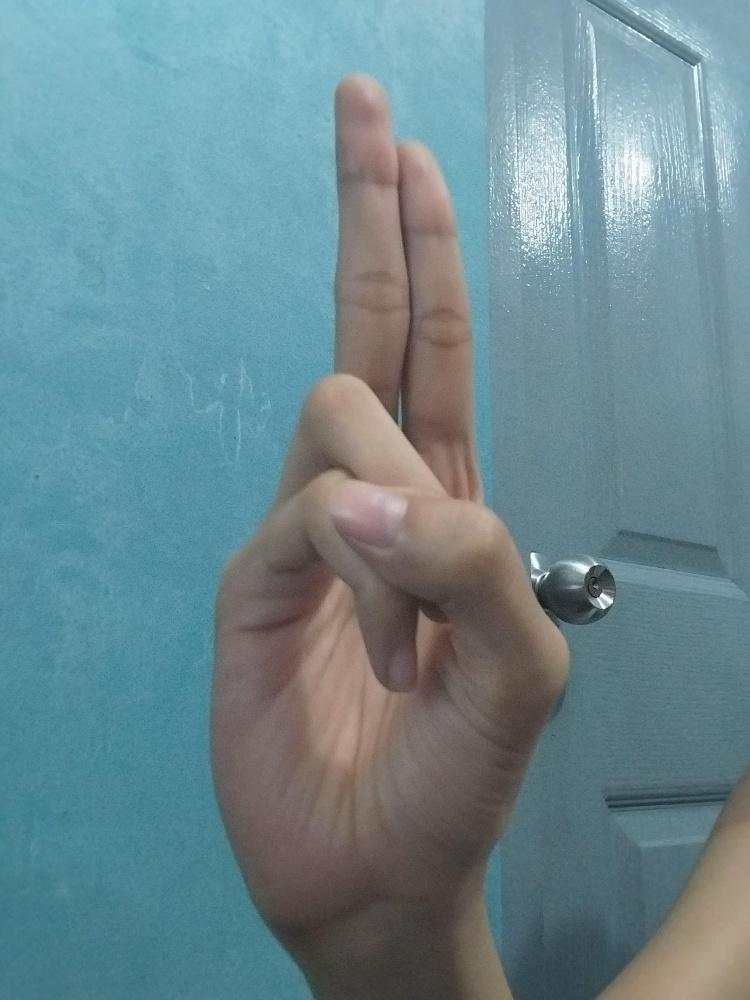u: (208, 71, 570, 934)
